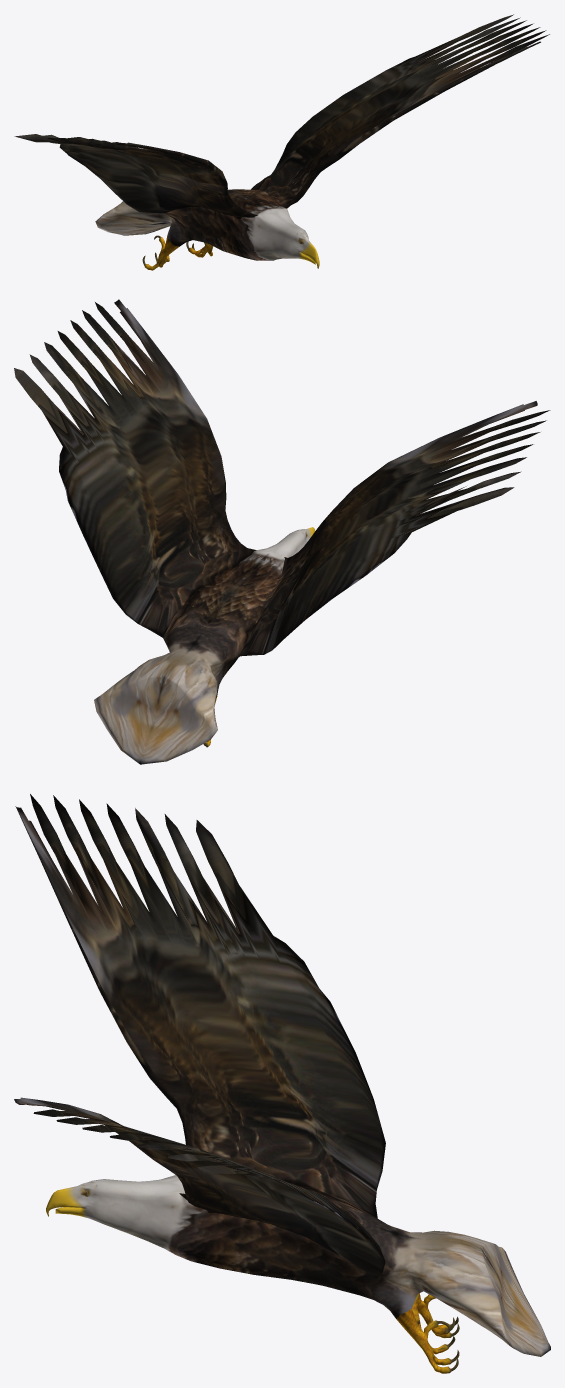
File: Eagle-original_000009.obj
The picture shows the model from 3 angles, top to bottom: view 1: azimuth 30°, elevation 25°; view 2: azimuth 150°, elevation 25°; view 3: azimuth 270°, elevation 25°; orthographic projection. The views are drawn at different scales.
Visible parts, largest first — view 1: Flugel_Plane.003; view 2: Flugel_Plane.003; view 3: Flugel_Plane.003.
Boxes of the visible parts, x1,y1,x2,y2 form: Flugel_Plane.003: (14,14,549,270); Flugel_Plane.003: (14,299,550,764); Flugel_Plane.003: (14,794,550,1373).
Size of the model in its own units: 9.48 by 5.07 by 6.17.
1 material, 1 textured.
